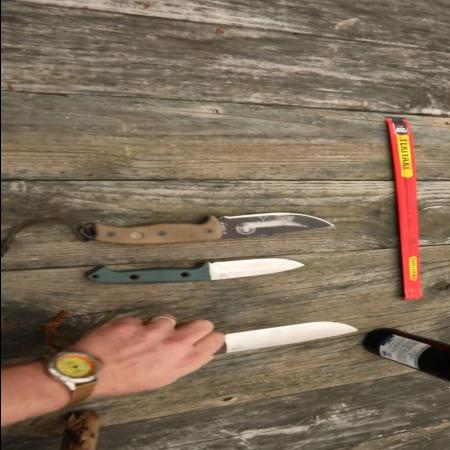long weapon: (109, 308, 368, 384), (197, 208, 347, 246), (197, 252, 314, 284)
